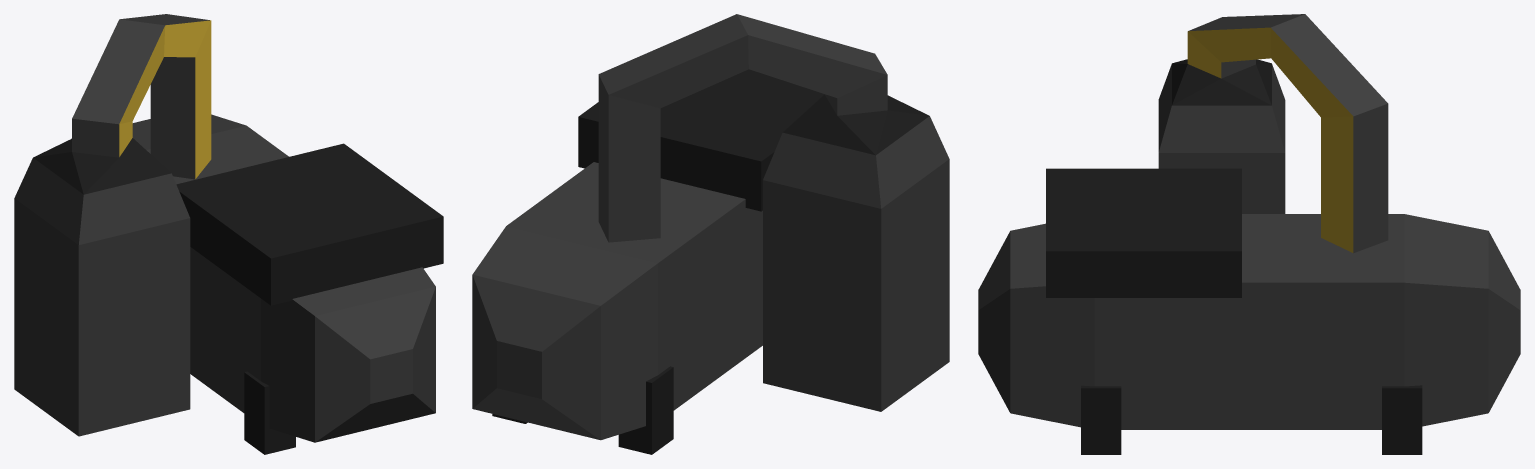
Rendered from explosivetank_v1.fbx.
3 views of the same model, side by side, from view 1: azimuth 30°, elevation 25°; view 2: azimuth 150°, elevation 25°; view 3: azimuth 270°, elevation 25° (orthographic). The views are drawn at different scales.
Parts seen in each view (by area): view 1: Cube.001; view 2: Cube.001; view 3: Cube.001.
Boxes of the visible parts, left/top/right/bottom form: Cube.001: left=14, top=14, right=443, bottom=454; Cube.001: left=472, top=14, right=949, bottom=454; Cube.001: left=978, top=14, right=1520, bottom=454.
Size of the model in its own units: 429 by 480 by 667.
